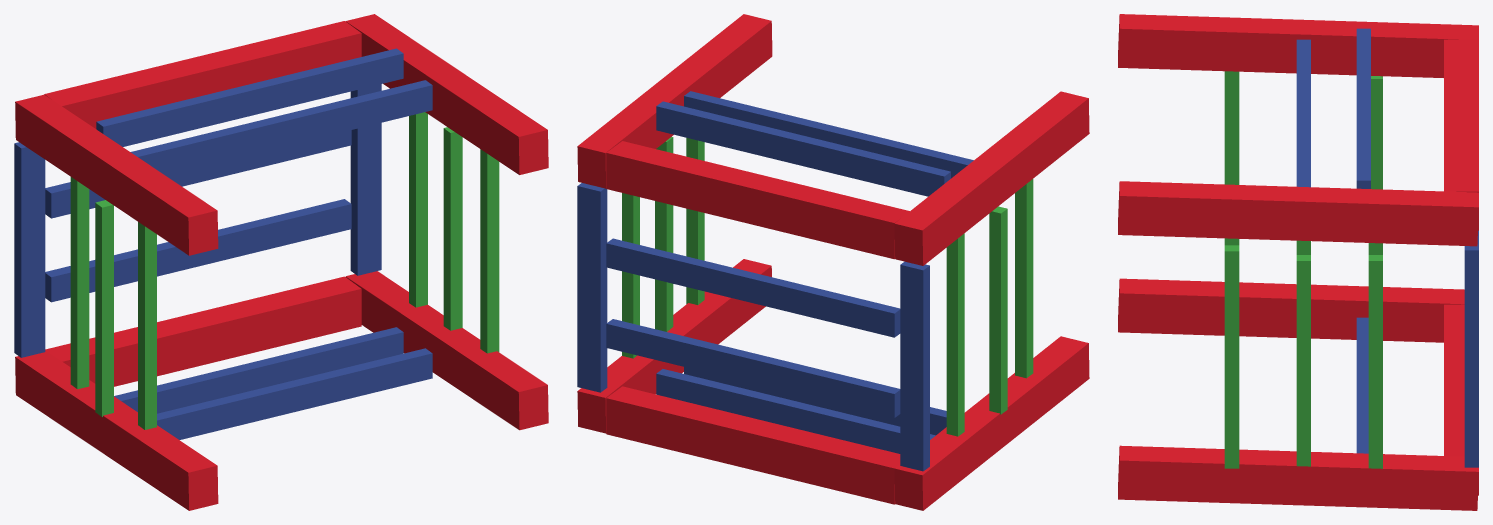
Rendered from tinker.obj.
The picture shows the model from 3 angles, left to right: view 1: azimuth 30°, elevation 25°; view 2: azimuth 150°, elevation 25°; view 3: azimuth 270°, elevation 25°; orthographic projection. The views are drawn at different scales.
Visible parts, largest first — view 1: group_0_15277357, group_0_3888547, group_0_4634441; view 2: group_0_15277357, group_0_3888547, group_0_4634441; view 3: group_0_15277357, group_0_4634441, group_0_3888547.
Boxes of the visible parts, box(x1,y1,x2,y2) form: group_0_15277357: box(15, 14, 548, 510); group_0_3888547: box(14, 48, 432, 439); group_0_4634441: box(70, 112, 499, 429); group_0_15277357: box(577, 14, 1089, 510); group_0_3888547: box(577, 91, 973, 471); group_0_4634441: box(622, 136, 1033, 436); group_0_15277357: box(1118, 14, 1478, 510); group_0_4634441: box(1224, 71, 1382, 468); group_0_3888547: box(1296, 28, 1478, 467).
Size of the model in its own units: 36.2 by 29 by 30.11.
